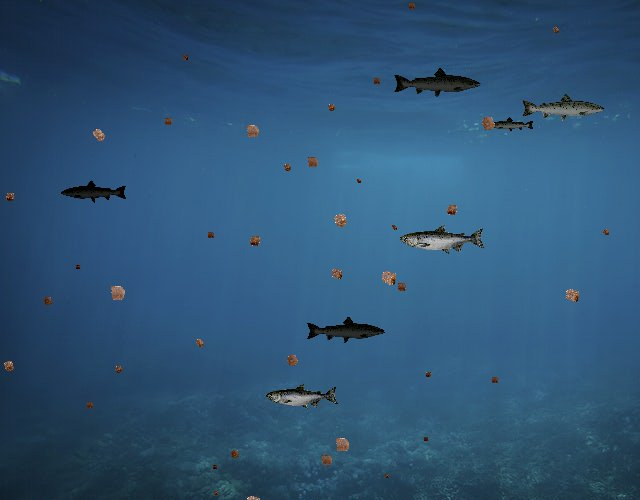Fish: (393, 66, 483, 99), (520, 92, 606, 123), (400, 224, 486, 255), (306, 316, 387, 345), (267, 383, 340, 410), (61, 180, 129, 204), (488, 117, 535, 134)
Pellet: (102, 277, 132, 308), (239, 117, 266, 144), (243, 230, 266, 252), (0, 355, 20, 377), (392, 278, 410, 296), (369, 74, 384, 88), (422, 369, 435, 382), (179, 51, 192, 64), (210, 488, 220, 498)
